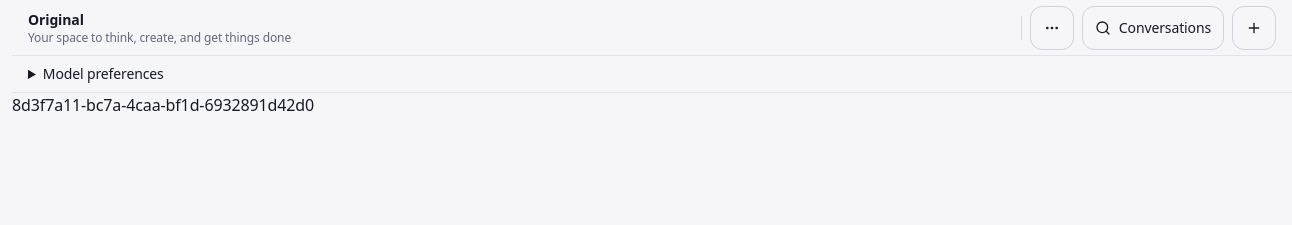
Test: CopilotKit consumer session adapter › reports an acknowledged deletion when replacement creation fails
Click the button named "Conversation options": (1052, 28) [1030,6,1074,50]
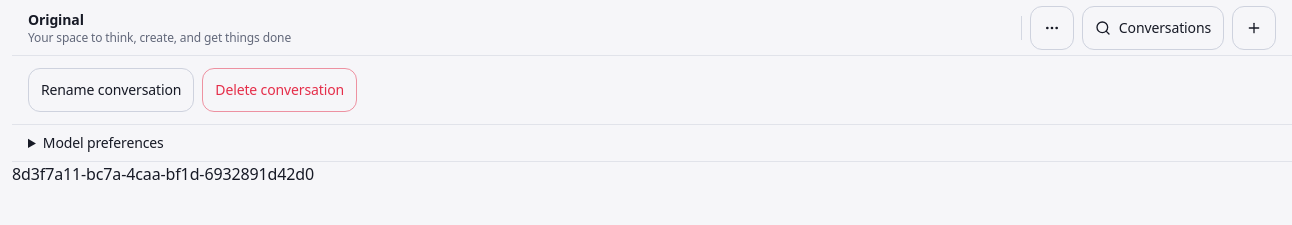
Click the button "Delete conversation": (280, 90) [202,68,357,112]
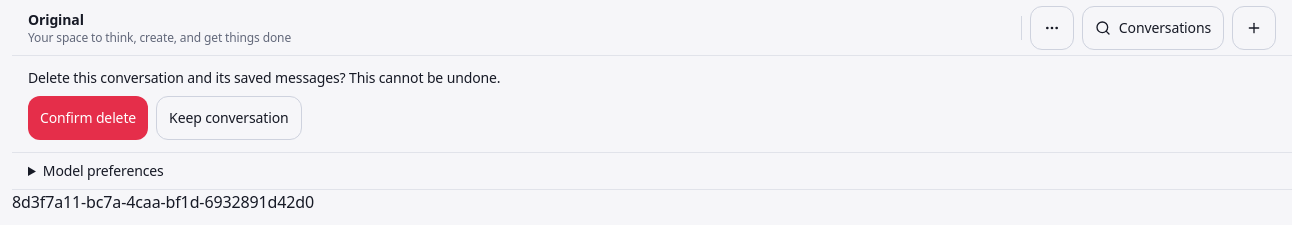
Click the button "Confirm delete": (88, 118) [28,96,148,140]
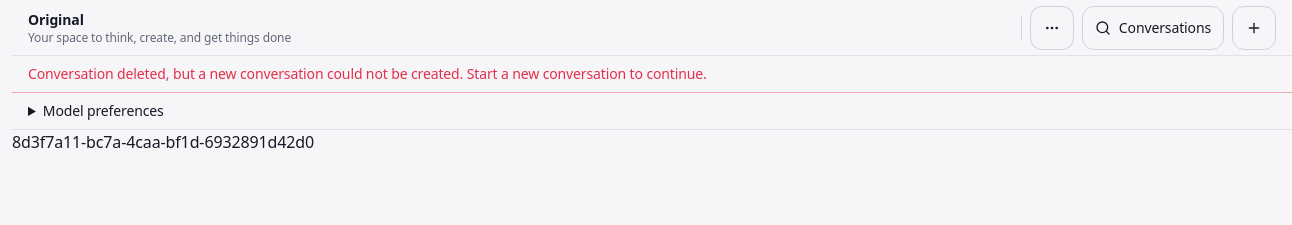
Now the message shows "could not be created", box [28,64,707,83]
